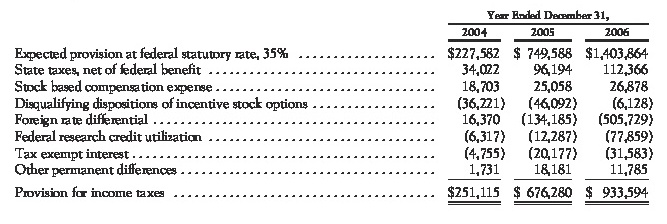table: (0, 0, 667, 224)
